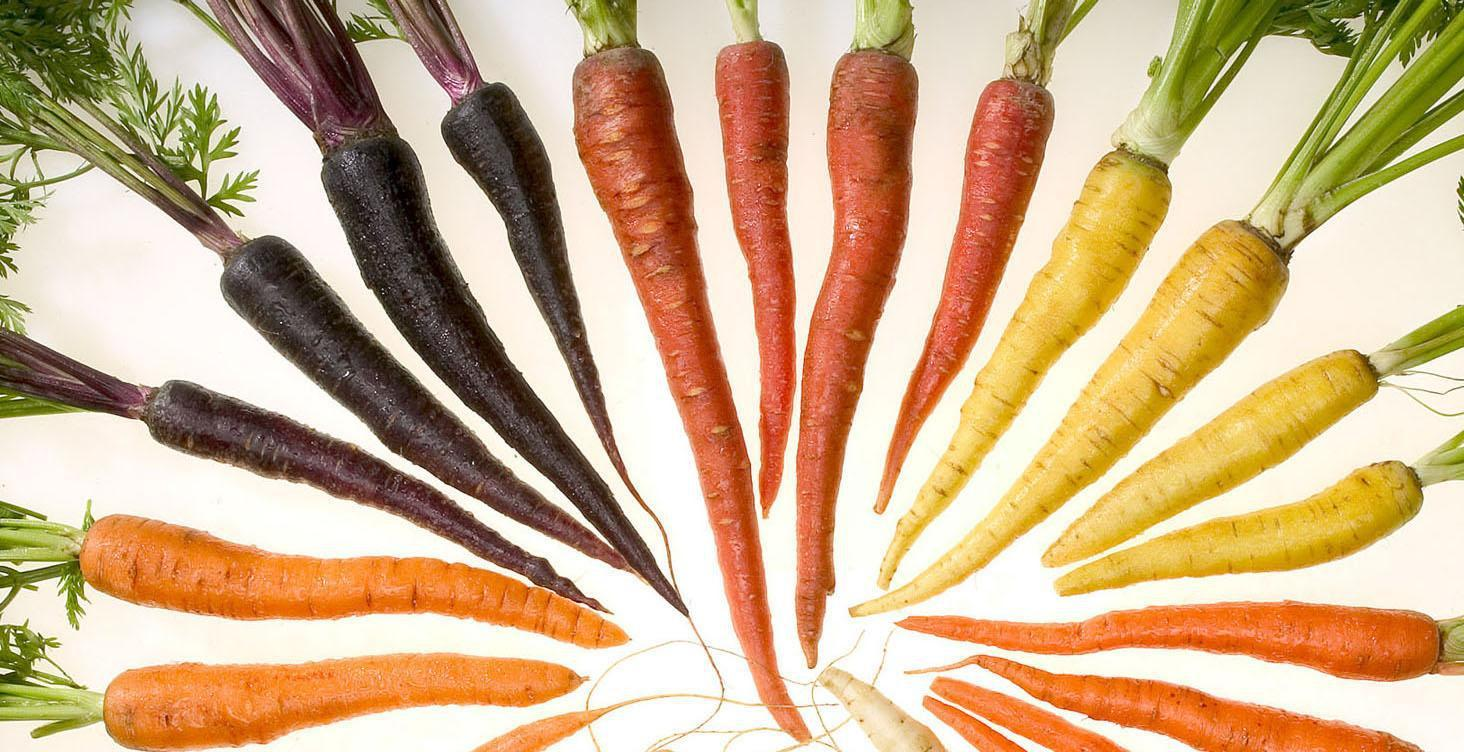carrot: (29, 499, 625, 665), (896, 609, 1464, 752), (62, 649, 601, 752)
